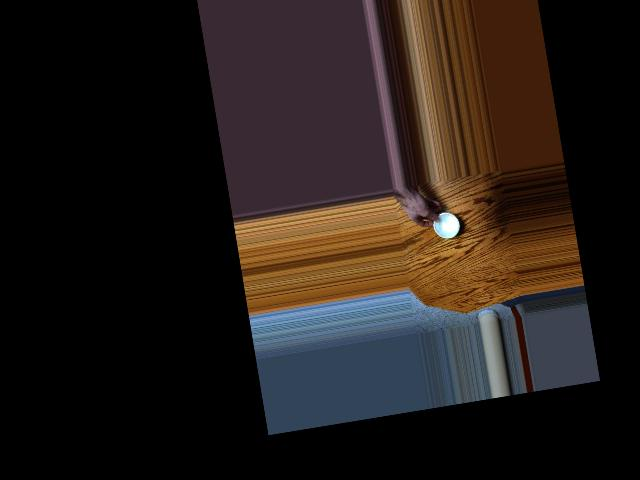cotage: (428, 207, 462, 240)
